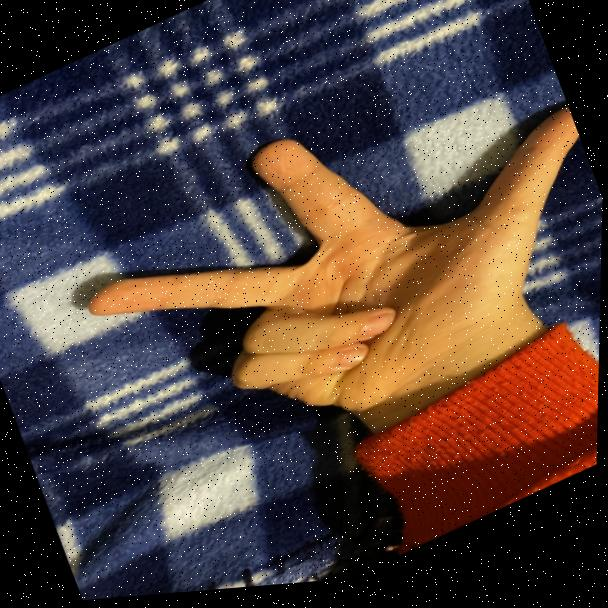five: (58, 23, 607, 529)
